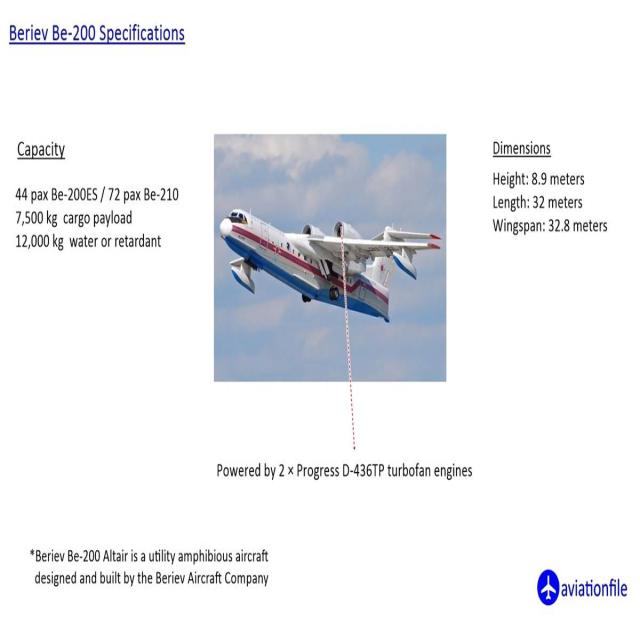MIL_Plane: (0, 207, 186, 324)
